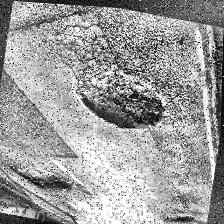pothole: (72, 61, 176, 137)
